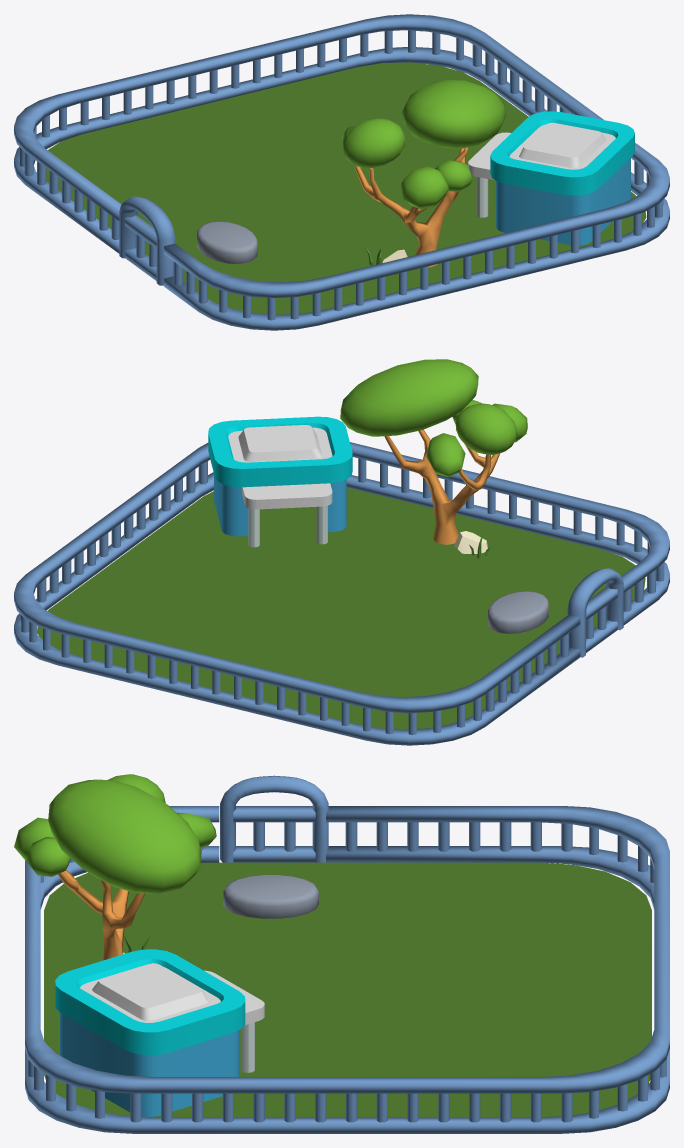
File: paddock_elephant.fbx
3 renders of one model, top to bottom at view 1: azimuth 30°, elevation 25°; view 2: azimuth 150°, elevation 25°; view 3: azimuth 270°, elevation 25°, orthographic. The views are drawn at different scales.
Visible parts, largest first — view 1: Plane.001, paddock_elephant, house_elephant, Tree_01, door)paddock_elephant, Cylinder.002; view 2: Plane.001, paddock_elephant, Tree_01, house_elephant, door)paddock_elephant, Cylinder.002; view 3: Plane.001, paddock_elephant, house_elephant, Tree_01, door)paddock_elephant, Cylinder.002.
Part boxes in pixels (x1,y1,x2,y2): Plane.001: [46, 62, 646, 314]; paddock_elephant: [14, 14, 669, 330]; house_elephant: [468, 111, 634, 245]; Tree_01: [341, 80, 505, 267]; door)paddock_elephant: [119, 196, 175, 285]; Cylinder.002: [197, 221, 257, 263]; Plane.001: [37, 487, 645, 729]; paddock_elephant: [14, 442, 669, 745]; Tree_01: [340, 359, 527, 544]; house_elephant: [208, 416, 352, 547]; door)paddock_elephant: [567, 568, 623, 657]; Cylinder.002: [488, 591, 548, 633]; Plane.001: [44, 862, 651, 1117]; paddock_elephant: [25, 806, 669, 1133]; house_elephant: [55, 949, 264, 1116]; Tree_01: [14, 774, 216, 960]; door)paddock_elephant: [220, 775, 328, 862]; Cylinder.002: [223, 875, 318, 918].
Size of the model in its own units: 3198 by 1149 by 3178.
